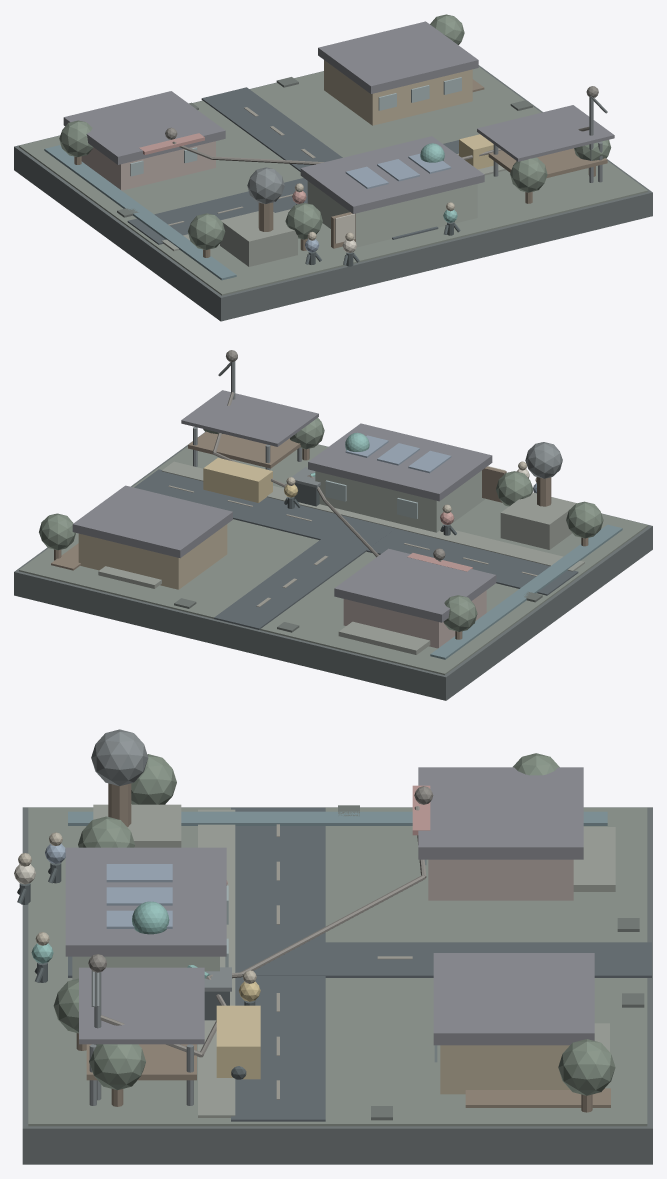
The model's file is yudae_e_commons_open.glb.
3 renders of one model, top to bottom at view 1: azimuth 30°, elevation 25°; view 2: azimuth 150°, elevation 25°; view 3: azimuth 270°, elevation 25°, orthographic. The views are drawn at different scales.
Visible parts, largest first — view 1: g0001, g0000, g0037, g0043, g0031, g0042, g0003, g0054, g0036, g0030, g0061, g0016 (+15 smaller); view 2: g0001, g0000, g0002, g0037, g0043, g0031, g0003, g0036, g0042, g0054, g0015, g0061 (+15 smaller); view 3: g0001, g0000, g0002, g0037, g0031, g0043, g0003, g0054, g0030, g0036, g0015, g0016 (+19 smaller).
Boxes of the visible parts, x1,y1,x2,y2 form: g0001: [19, 67, 647, 295]; g0000: [14, 65, 652, 321]; g0037: [318, 21, 478, 93]; g0043: [300, 136, 484, 213]; g0031: [63, 91, 225, 164]; g0042: [307, 181, 477, 247]; g0003: [201, 87, 438, 239]; g0054: [477, 105, 614, 161]; g0036: [324, 60, 472, 125]; g0030: [81, 141, 215, 190]; g0061: [220, 211, 297, 266]; g0016: [44, 145, 236, 280]; g0001: [19, 444, 647, 675]; g0000: [14, 432, 652, 700]; g0002: [134, 469, 578, 595]; g0037: [72, 485, 232, 558]; g0043: [308, 423, 492, 501]; g0031: [334, 548, 496, 622]; g0003: [214, 517, 395, 629]; g0036: [78, 524, 227, 589]; g0042: [315, 470, 484, 532]; g0054: [181, 390, 318, 446]; g0015: [162, 461, 584, 571]; g0061: [500, 492, 576, 549]; g0001: [28, 807, 647, 1126]; g0000: [22, 807, 652, 1164]; g0002: [231, 807, 325, 1121]; g0037: [433, 953, 594, 1045]; g0031: [418, 767, 583, 859]; g0043: [65, 847, 226, 956]; g0003: [68, 942, 651, 977]; g0054: [79, 967, 204, 1044]; g0030: [428, 859, 573, 900]; g0036: [440, 1045, 569, 1094]; g0015: [198, 809, 235, 1117]; g0016: [68, 811, 607, 825].
Size of the model in its own units: 3.45 by 0.918 by 2.9.
